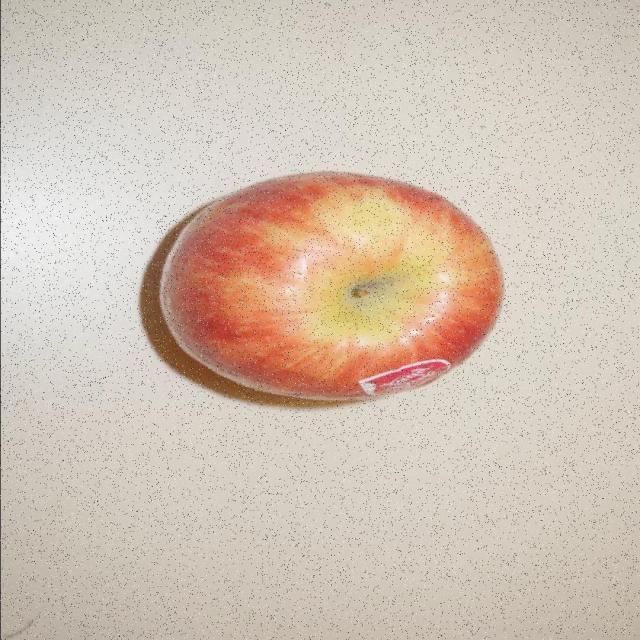Apple: (153, 171, 503, 402)
